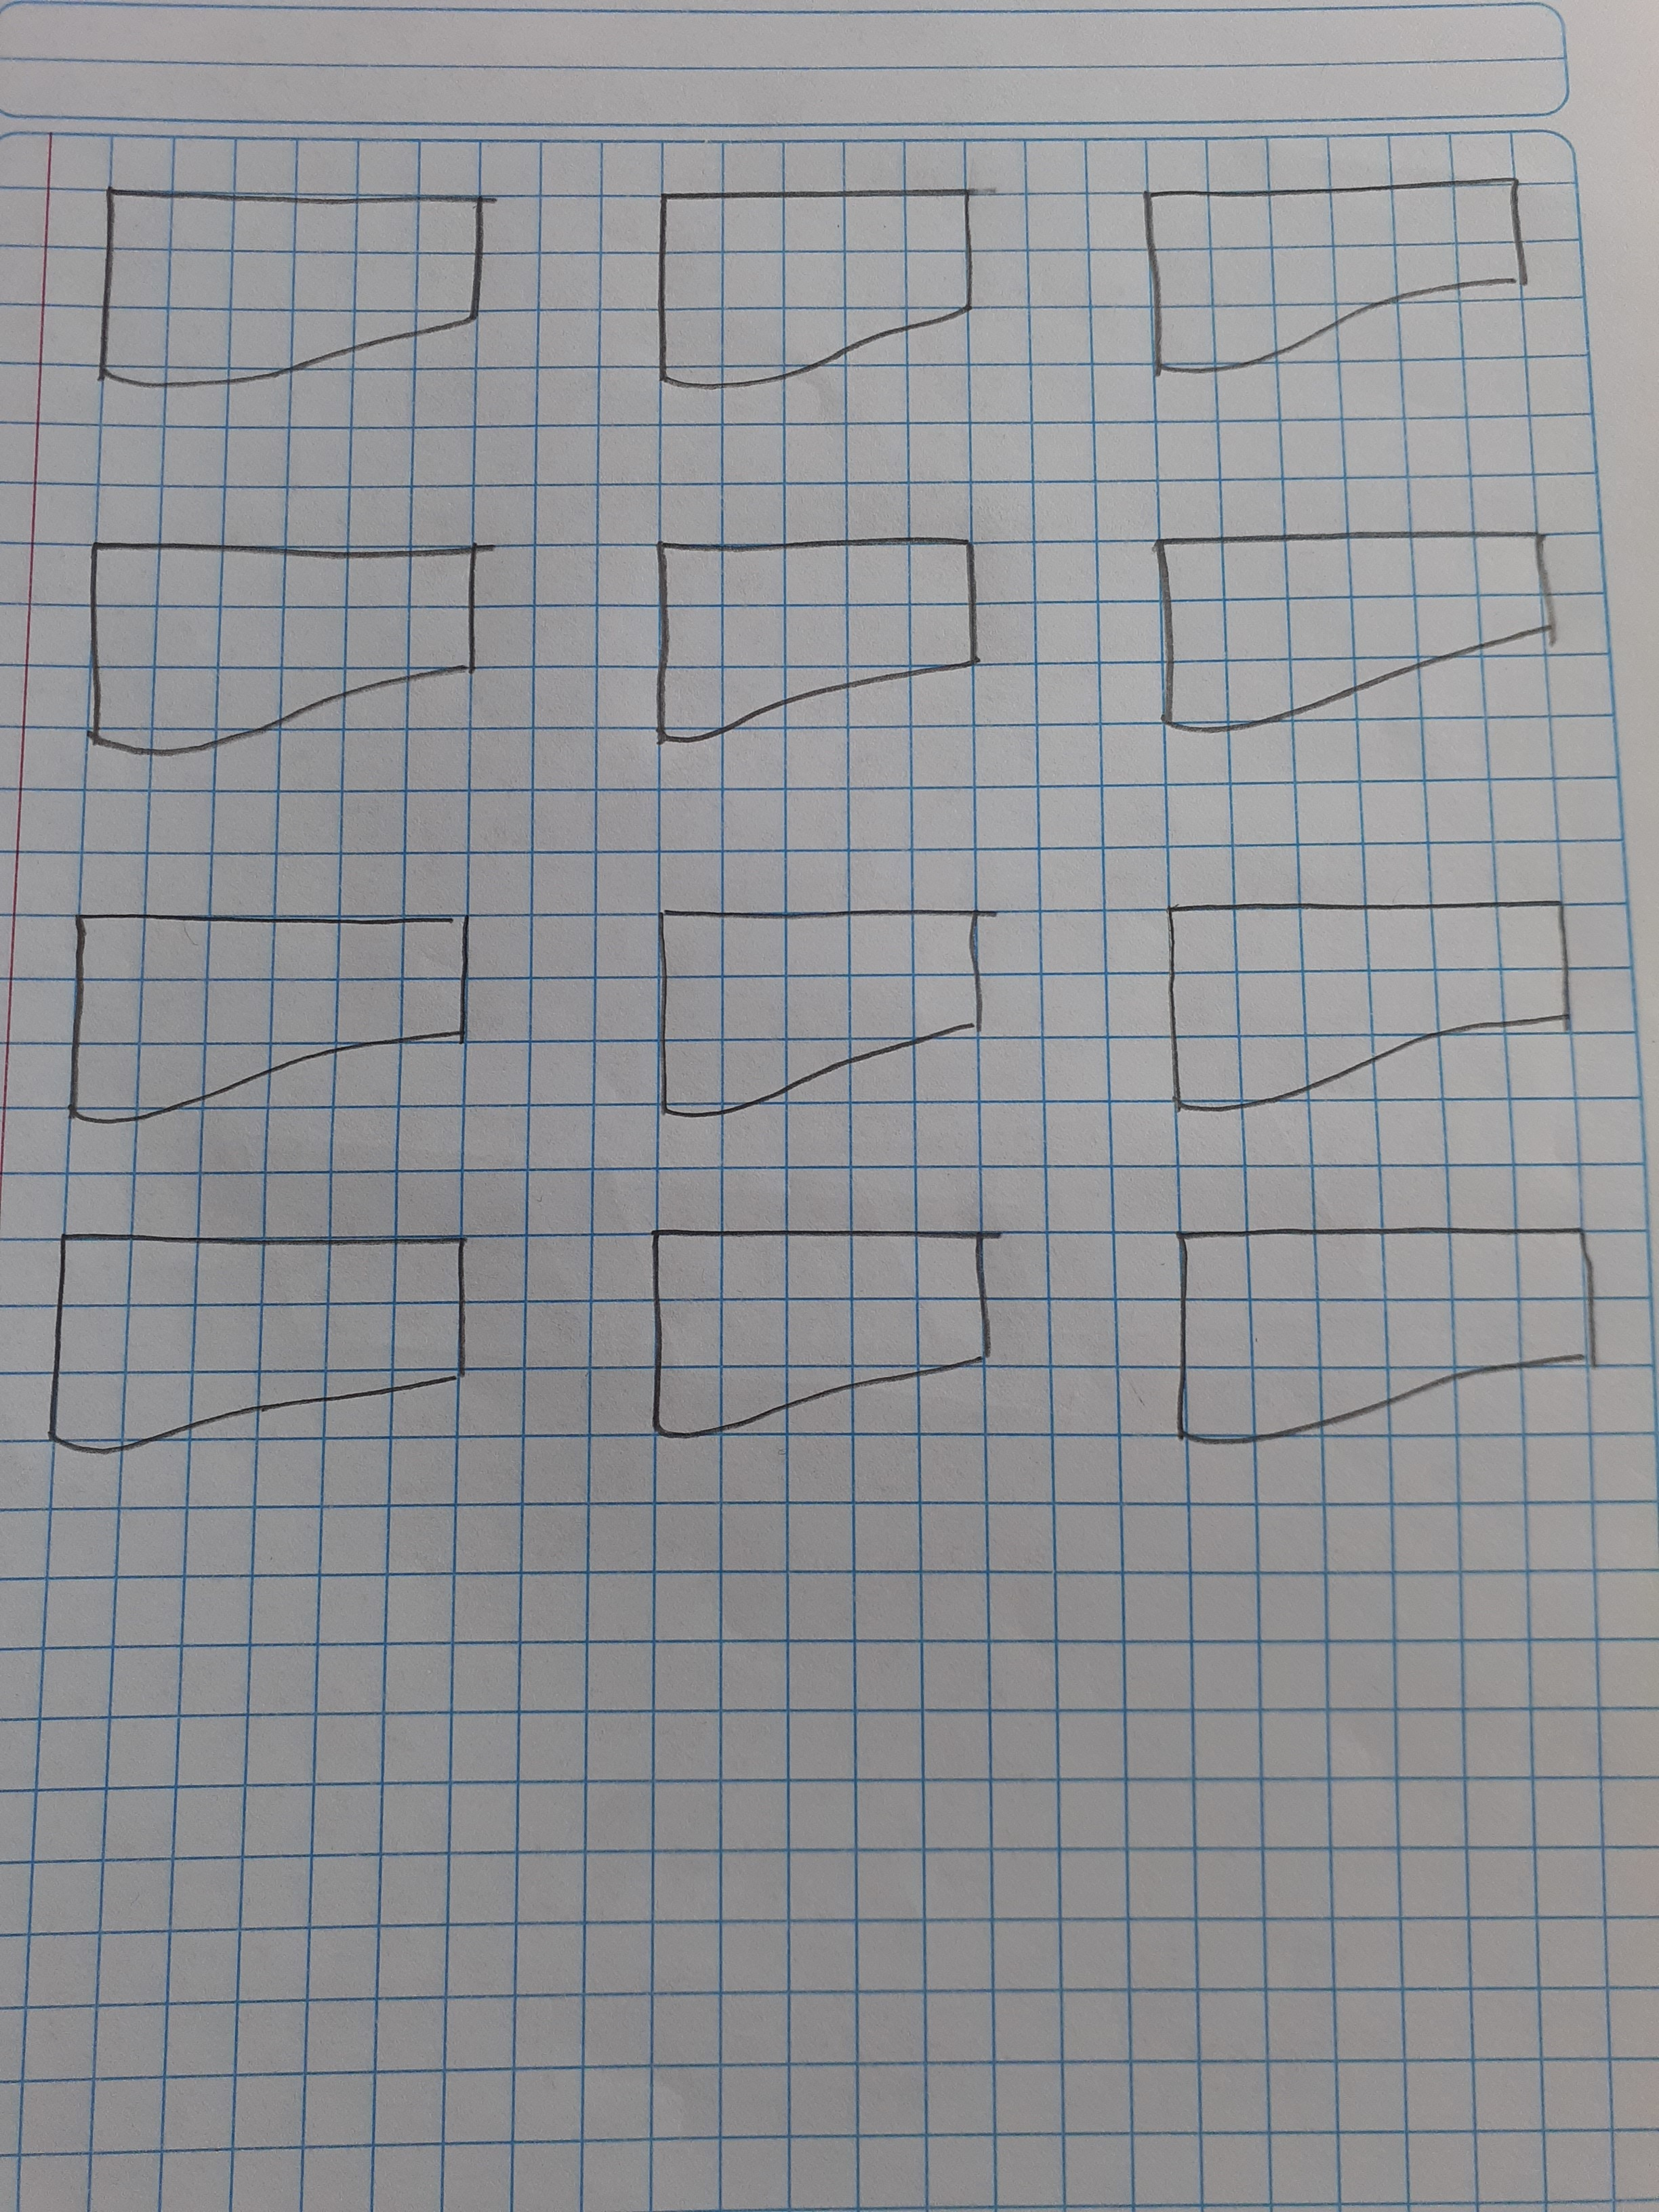print: (71, 157, 526, 453), (24, 1200, 479, 1489), (1150, 1198, 1624, 1461), (52, 869, 495, 1146), (1150, 855, 1586, 1130), (61, 516, 509, 777), (634, 141, 1014, 439), (1101, 150, 1553, 394), (634, 1195, 1014, 1479), (1126, 519, 1570, 754), (610, 876, 1004, 1137), (634, 523, 986, 754)
